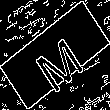M_NW: (25, 21, 85, 89)
